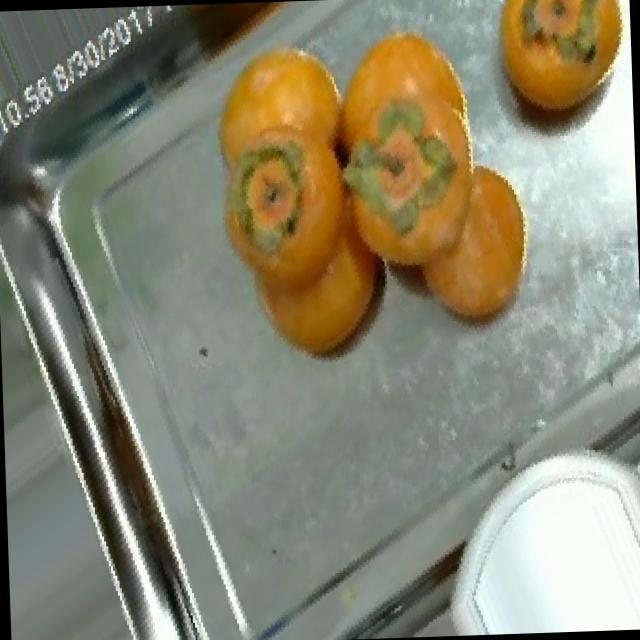Fruit: (224, 205, 408, 385), (472, 0, 634, 162)
